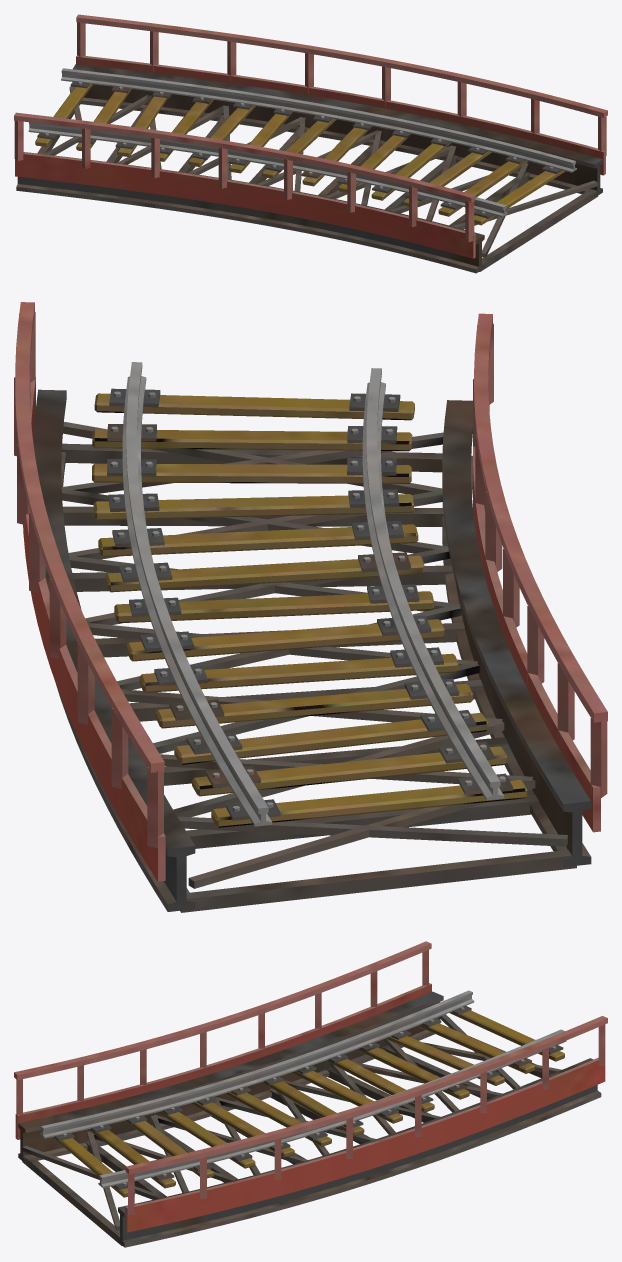
The model's file is elevated-curved-rail-b.glb.
3 views of the same model, one above another, from view 1: azimuth 30°, elevation 25°; view 2: azimuth 150°, elevation 25°; view 3: azimuth 270°, elevation 25° (orthographic). The views are drawn at different scales.
Parts seen in each view (by area): view 1: body; view 2: body; view 3: body.
Part boxes in pixels (x1,y1,x2,y2): body: (14, 14, 607, 273); body: (14, 302, 607, 912); body: (14, 941, 607, 1247).
Size of the model in its own units: 4.85 by 0.825 by 5.33.
Materials: 1 (1 with a texture image).
